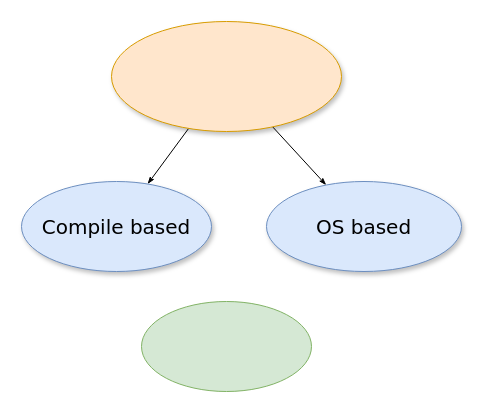
This 485x409 diagram has some shape labels left out. Each missing label, with the centre of its shape:
Exploit mitigation: pixel 227 77
Hardware based: pixel 226 346
